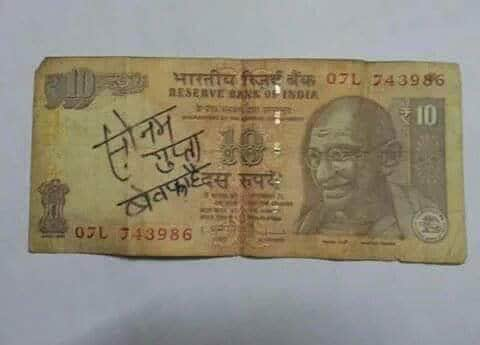ten_rupees_note: (30, 55, 467, 262)
